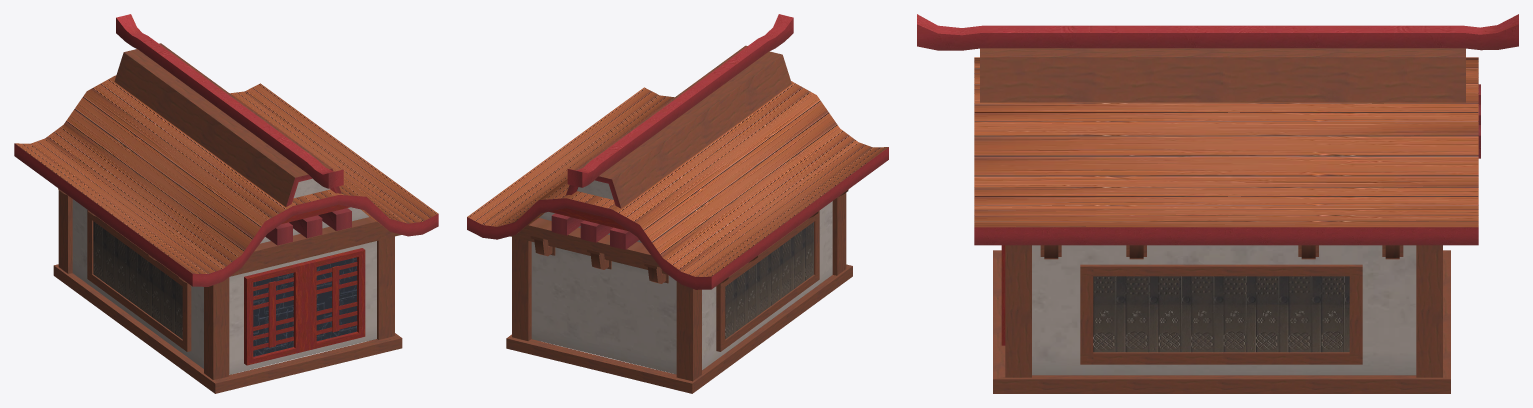
File: floor02.glb
The picture shows the model from 3 angles, left to right: view 1: azimuth 30°, elevation 25°; view 2: azimuth 150°, elevation 25°; view 3: azimuth 270°, elevation 25°; orthographic projection. The views are drawn at different scales.
Visible parts, largest first — view 1: Floor02; view 2: Floor02; view 3: Floor02.
Boxes of the visible parts, x1,y1,x2,y2 form: Floor02: (14, 14, 438, 393); Floor02: (467, 14, 888, 393); Floor02: (917, 14, 1518, 393).
Bounding box in the file's own units: 15.73 × 13.4 × 23.54.
Materials: 4 (4 with a texture image).
